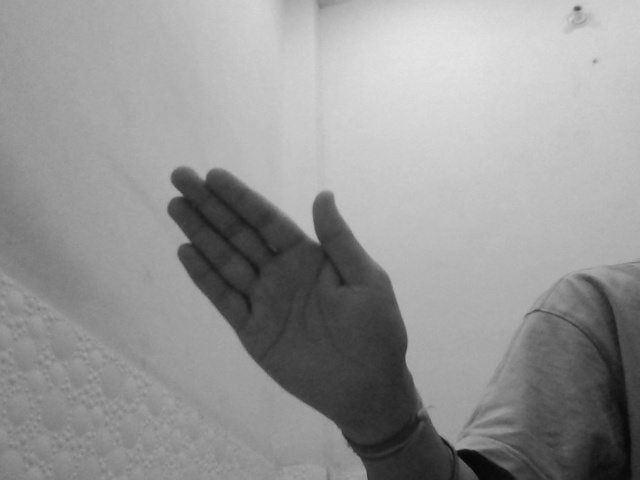Hello: (160, 162, 414, 439)
